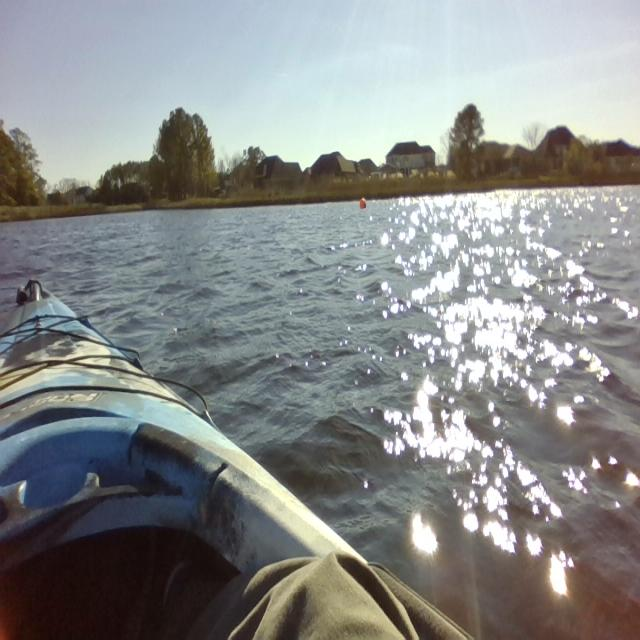Buoy: (358, 193, 371, 213)
